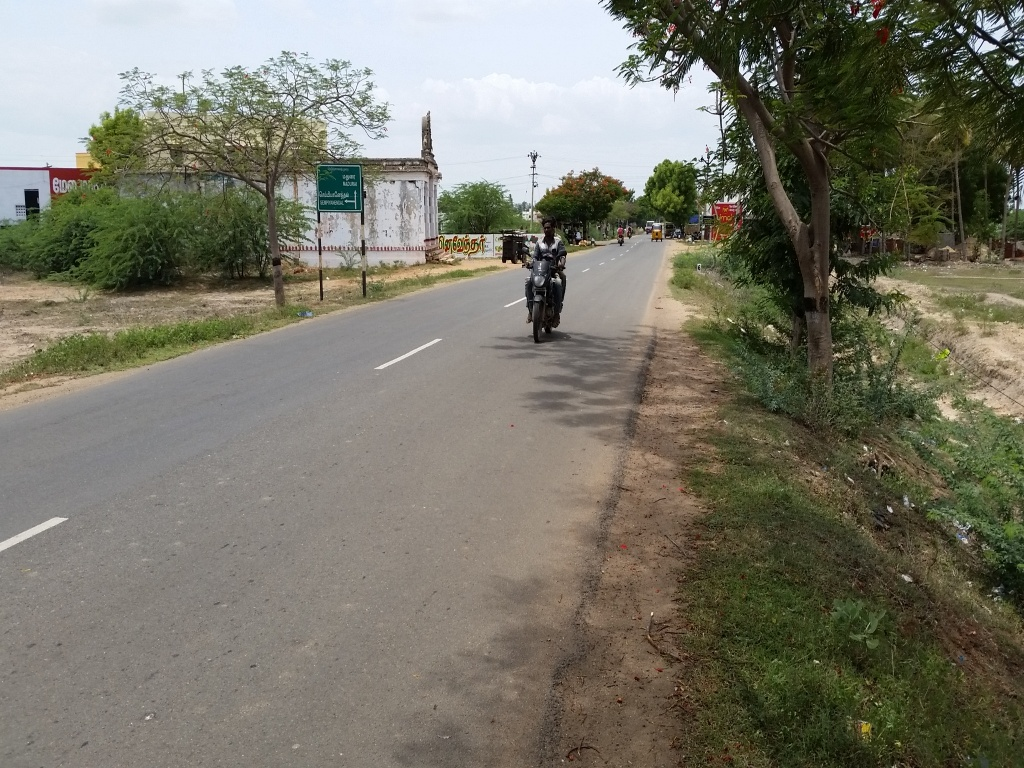biker: (499, 195, 598, 357)
nohelmet: (537, 214, 561, 247)
